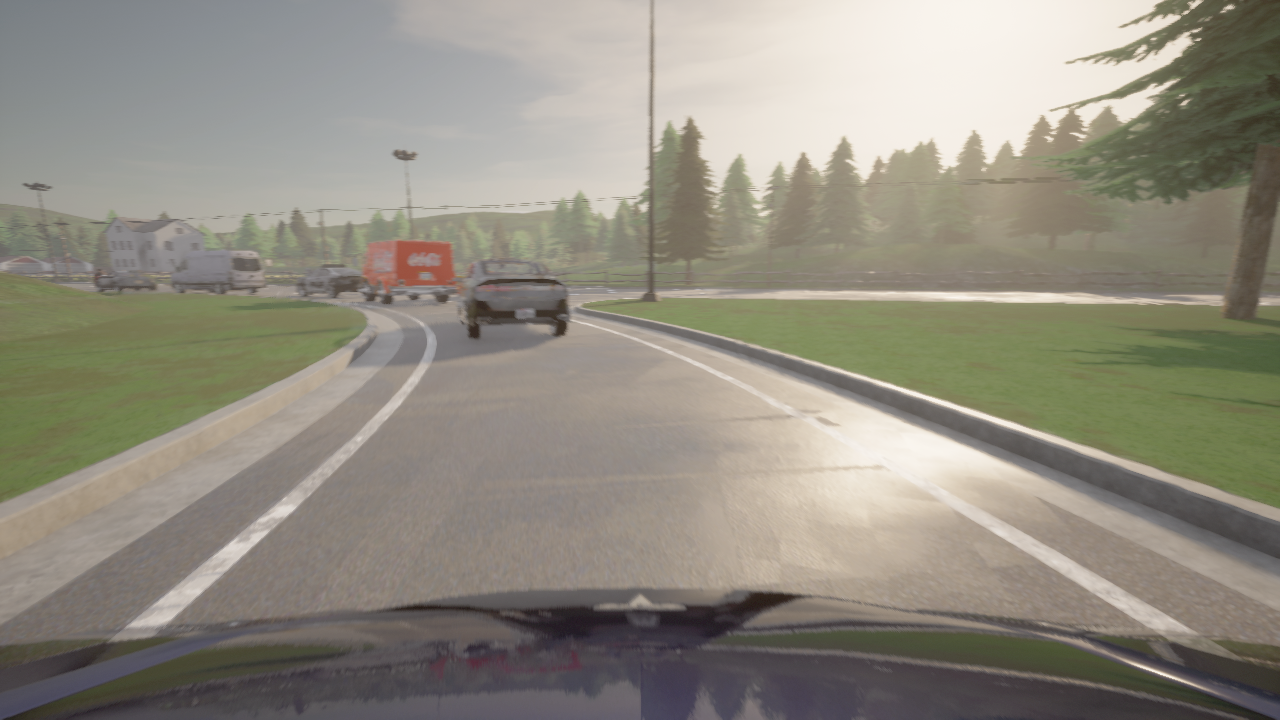cyclist: (0, 588, 1279, 719), (451, 258, 569, 339), (352, 239, 458, 304), (171, 249, 265, 294), (297, 264, 362, 298), (96, 271, 156, 291), (89, 274, 99, 287)
